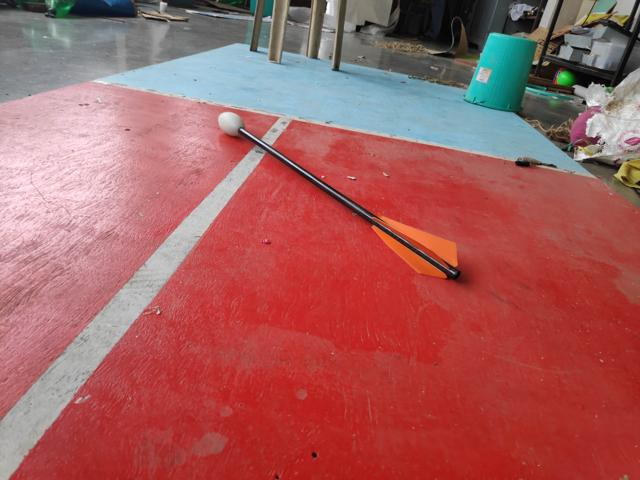Head: (215, 109, 248, 137)
Tail: (368, 214, 462, 279)
